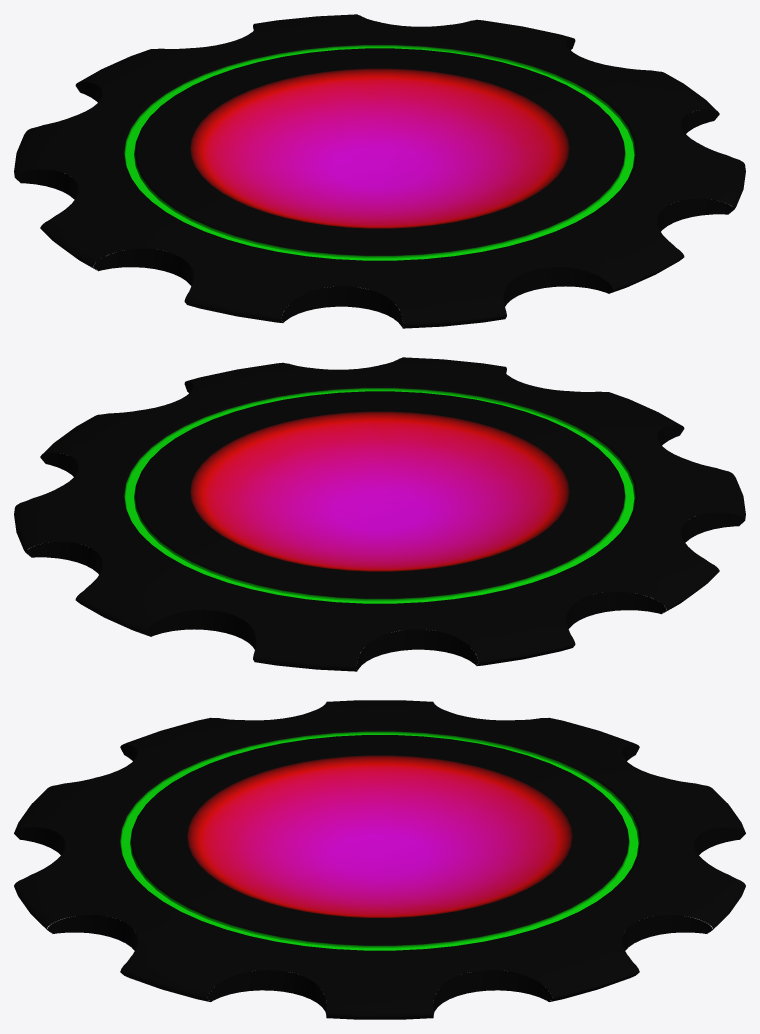
The model's file is Zone.fbx.
The picture shows the model from 3 angles, top to bottom: view 1: azimuth 30°, elevation 25°; view 2: azimuth 150°, elevation 25°; view 3: azimuth 270°, elevation 25°; orthographic projection.
Parts seen in each view (by area): view 1: Zone; view 2: Zone; view 3: Zone.
Part boxes in pixels (x1,y1,x2,y2): Zone: (14,14,745,328); Zone: (14,357,745,671); Zone: (14,700,745,1019).
Size of the model in its own units: 246 by 10.5 by 242.
